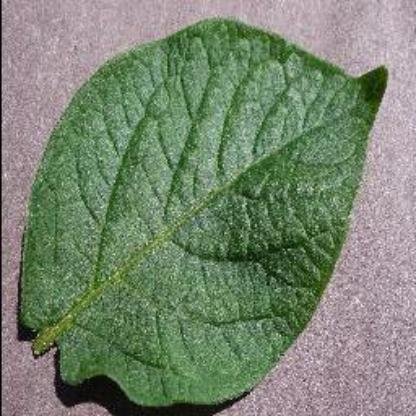Healthy-plant: (13, 12, 402, 412)
